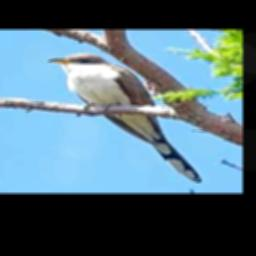Cuckoo: (49, 53, 202, 182)
